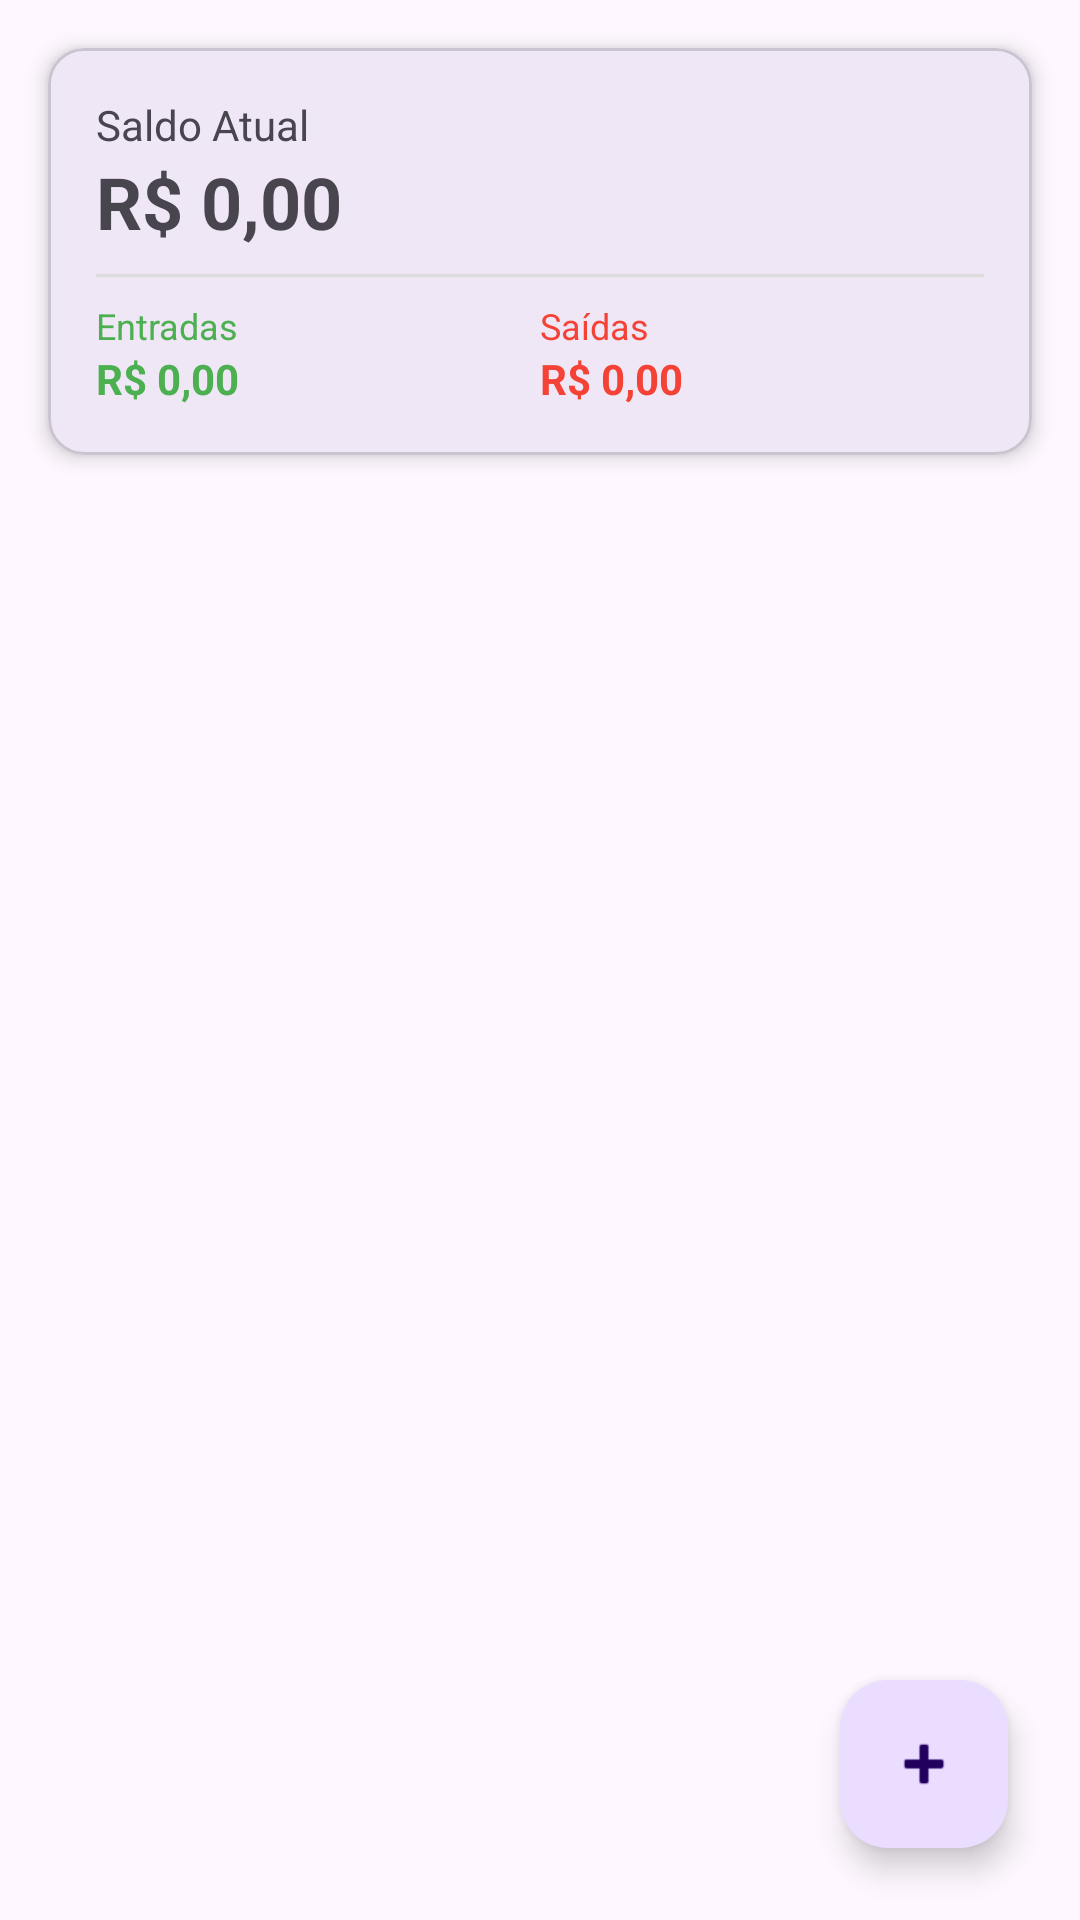

Where icons sit on this 1080px×1920px app screen, as (x1, y1, x2, y2):
Adicionar lançamento: (840, 1680, 1008, 1848)
